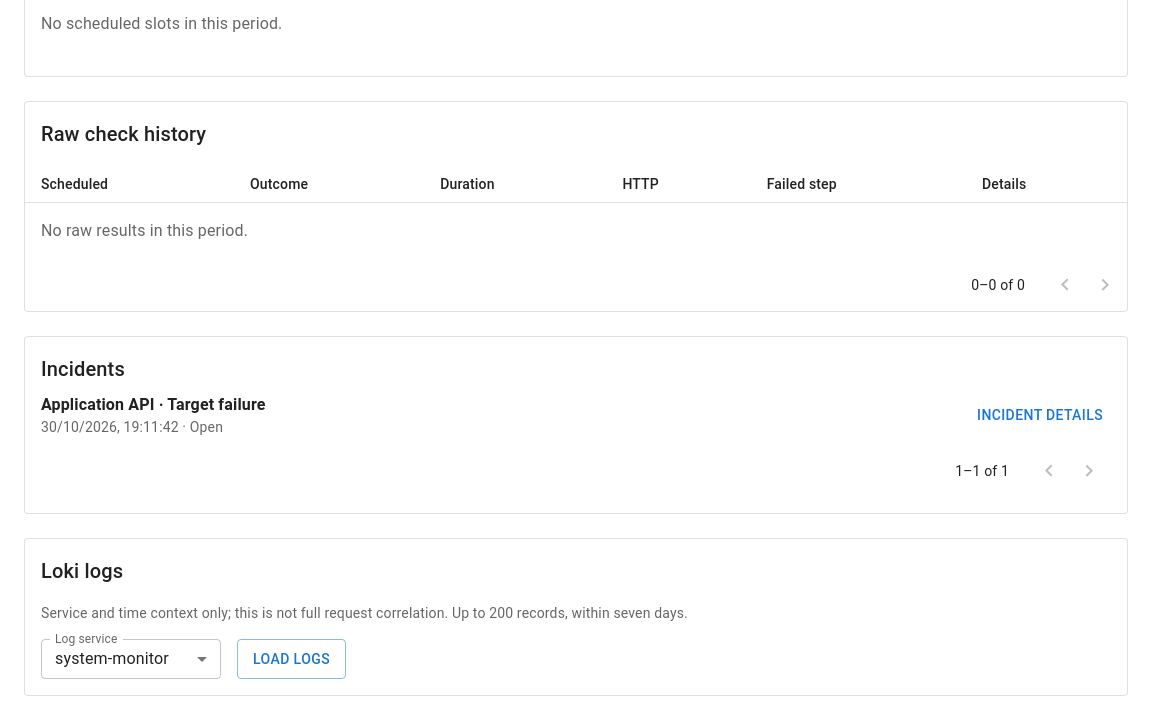
Test: keeps the incident time window when opening related logs from the dialog
The width and height of the screenshot is (1152, 720).
(page scrolled)
Click the button "Incident details". click: (1040, 415)
box: [969,393,1111,437]
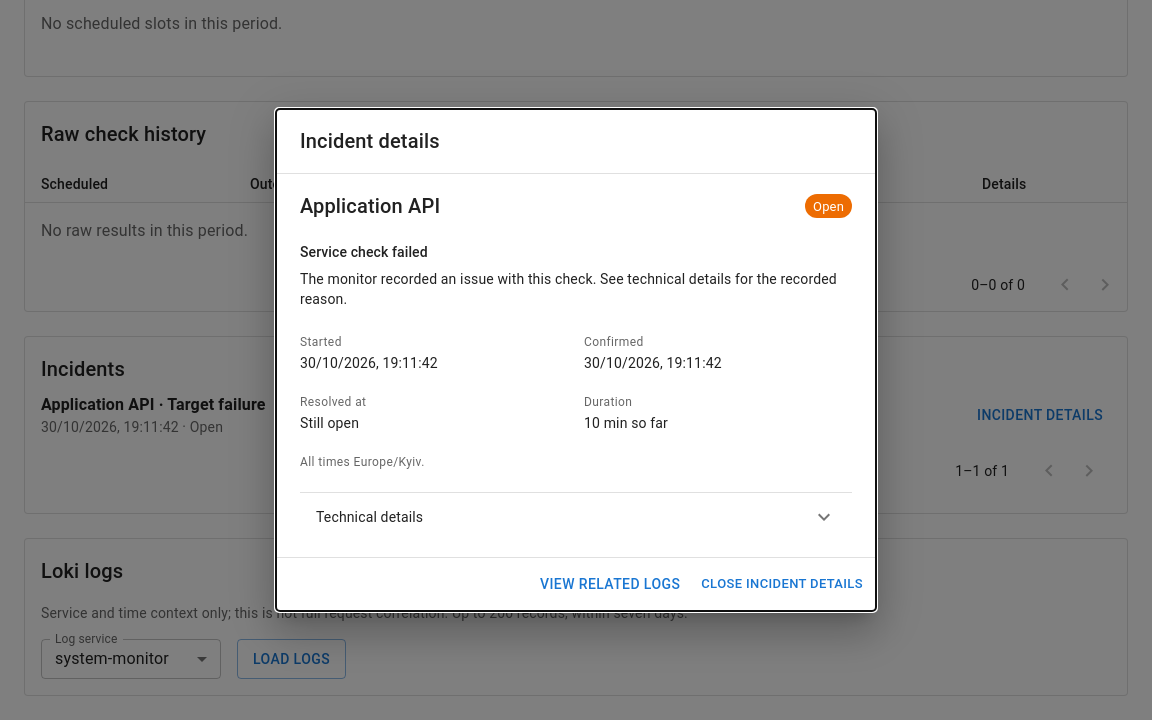
Click the button "View related logs". click: (610, 584)
box: [532,566,688,603]
(page scrolled)
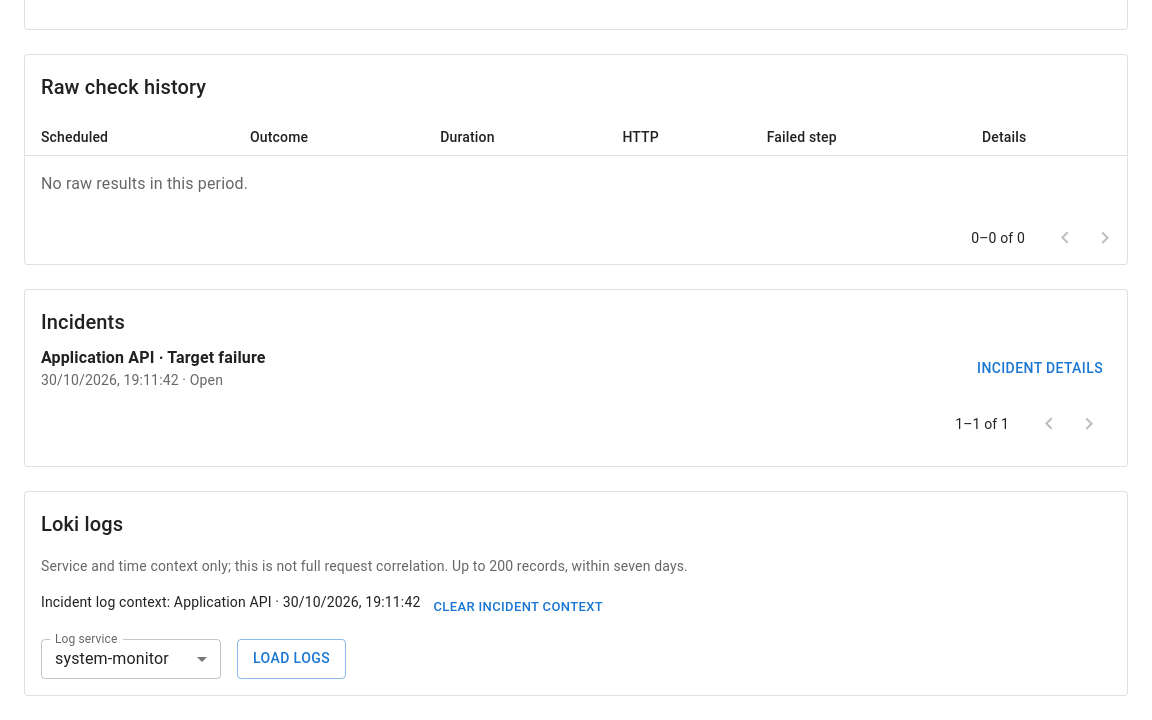
Result: the dialog is gone
Click the button "Load logs". click: (292, 659)
box: [237,639,346,679]
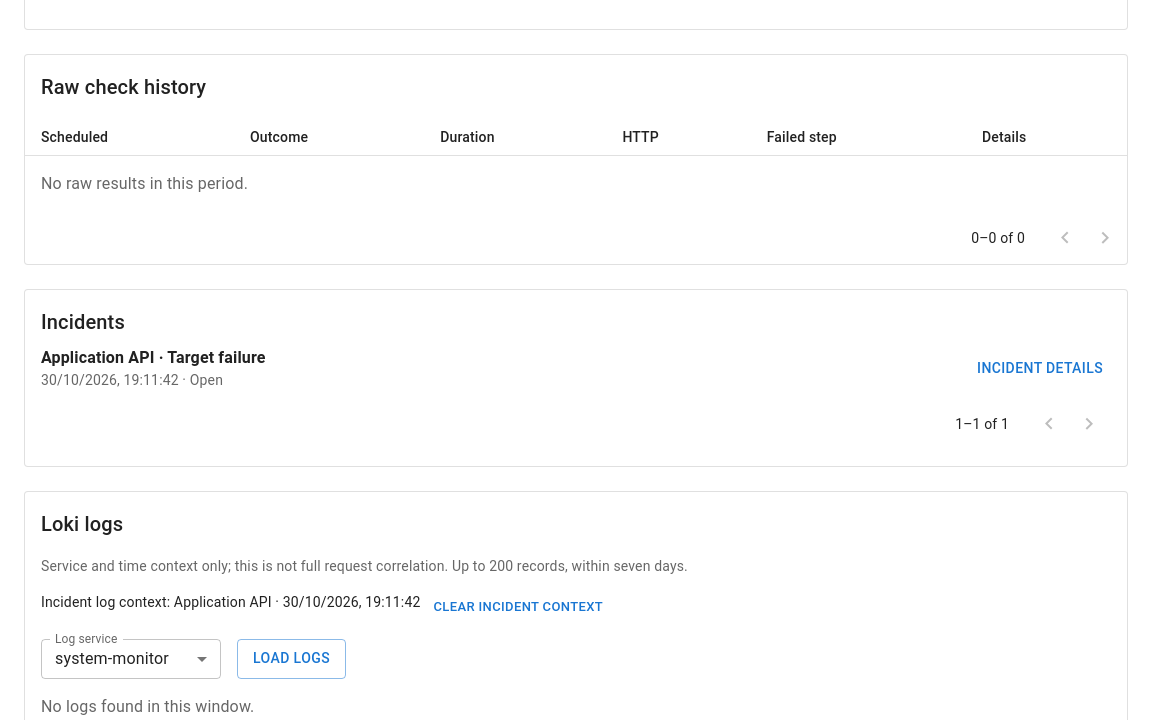
Click the button "Clear incident context". click: (518, 607)
box: [428,592,608,623]
(page scrolled)
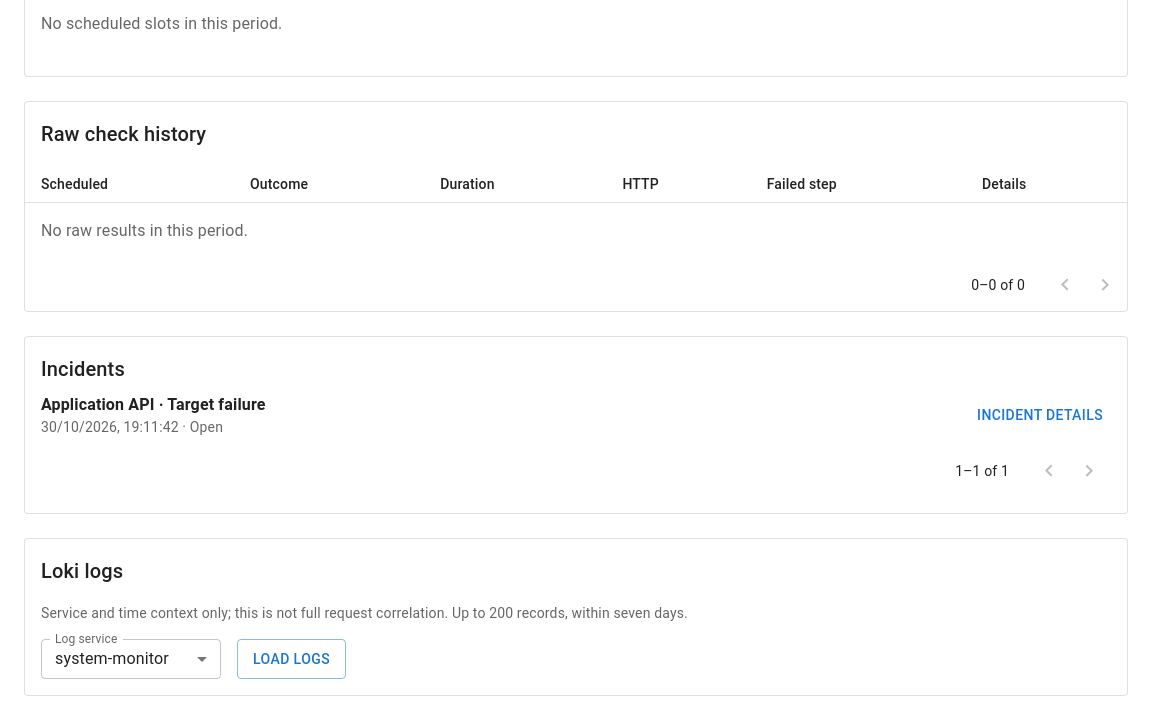
Result: the button "Clear incident context" is gone
